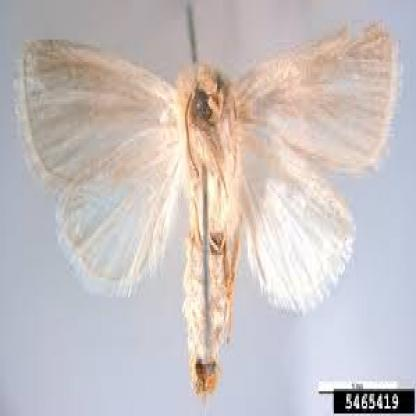stem-borer: (17, 20, 401, 380)
